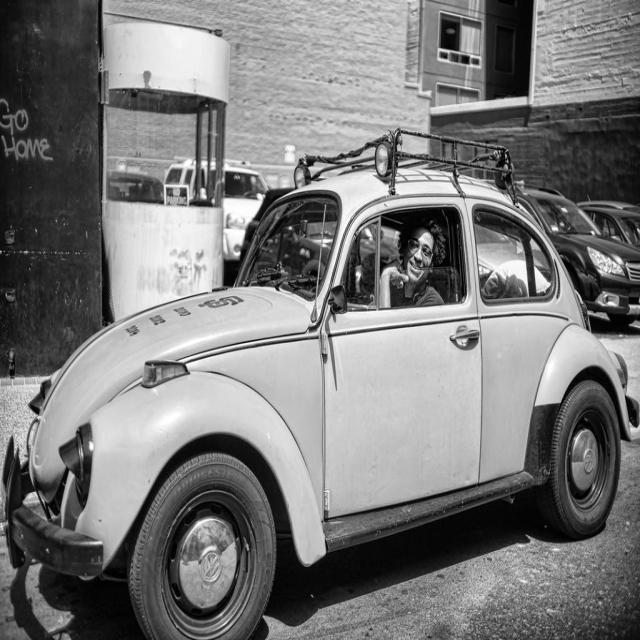car: (2, 131, 637, 637)
